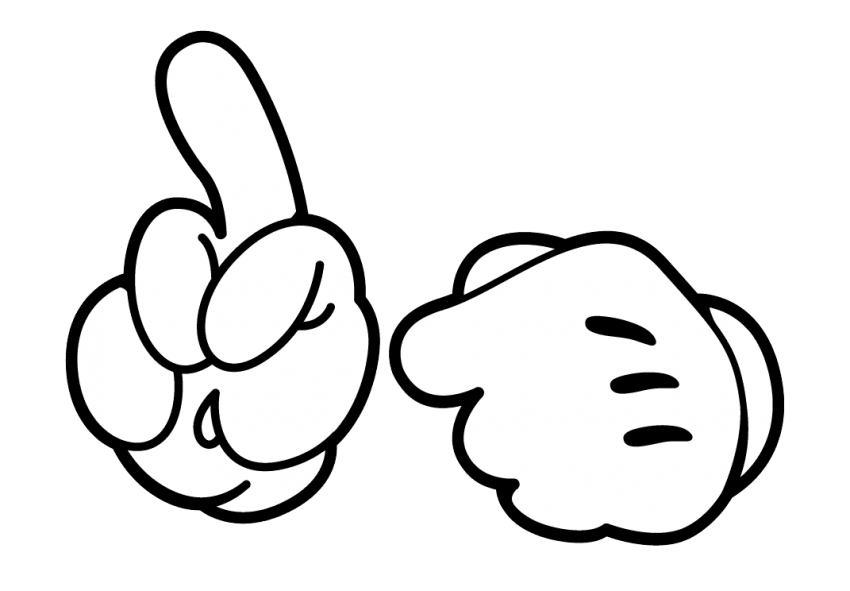Hand: (391, 171, 798, 562), (59, 37, 379, 527)
